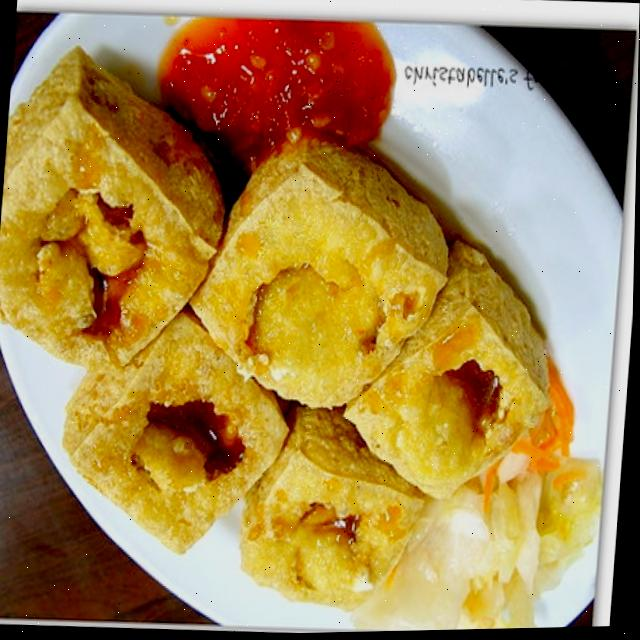豆腐料理: (0, 40, 604, 640)
